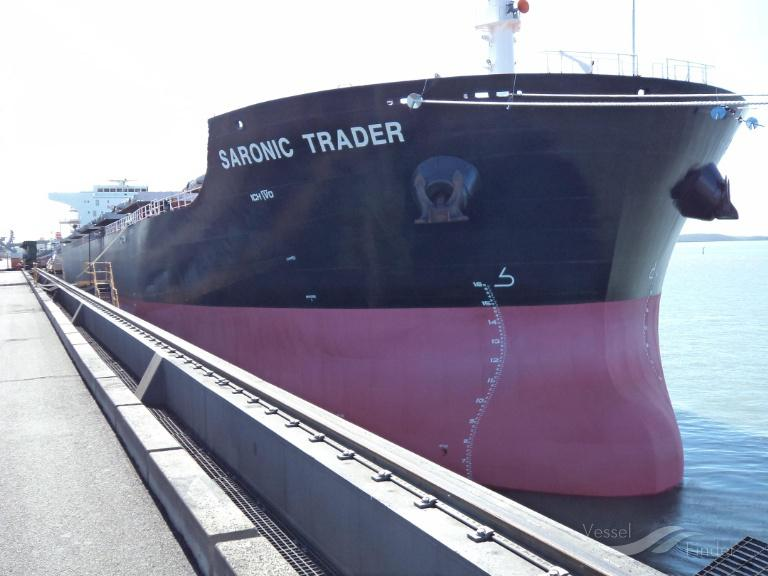OCR: (202, 113, 414, 176)
